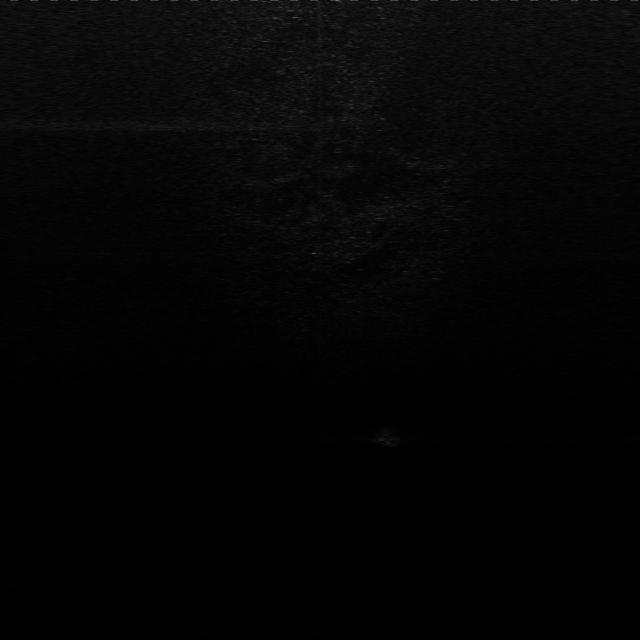circle cage: (370, 428, 410, 452)
